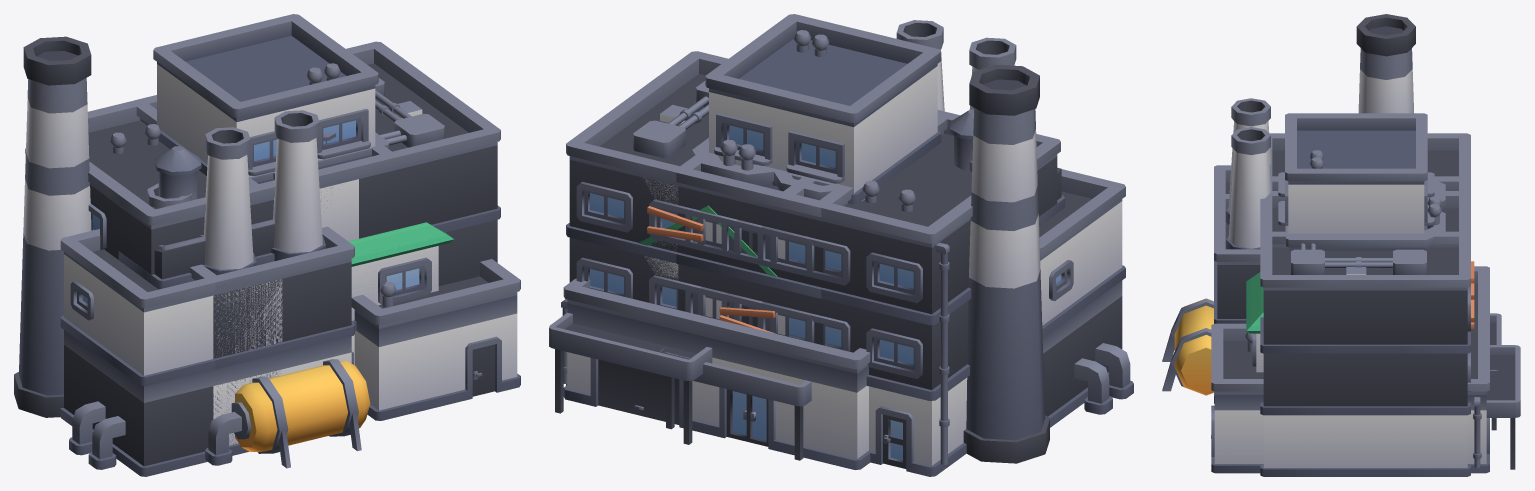
File: citykit.glb
3 views of the same model, side by side, from view 1: azimuth 30°, elevation 25°; view 2: azimuth 150°, elevation 25°; view 3: azimuth 270°, elevation 25° (orthographic). The views are drawn at different scales.
Visible parts, largest first — view 1: ind_f, ind_a, ind_c, ind_e, com_f, sub_f, ind_b, ind_d, com_a; view 2: ind_a, ind_f, ind_c, com_f, ind_d, ind_b, ind_e, com_a, com_b; view 3: ind_a, com_f, ind_c, ind_e, ind_f, com_b, ind_d, sub_f, ind_b, com_a.
Part boxes in pixels (box(x1,y1,x2,y2)): ind_f: box(14, 36, 283, 476); ind_a: box(25, 41, 500, 286); ind_c: box(205, 259, 520, 468); ind_e: box(189, 110, 354, 455); com_f: box(153, 14, 378, 183); sub_f: box(348, 222, 453, 364); ind_b: box(147, 132, 360, 241); ind_d: box(132, 95, 395, 190); com_a: box(156, 119, 381, 182); ind_a: box(566, 51, 1060, 476); ind_f: box(963, 64, 1133, 463); ind_c: box(549, 278, 872, 469); com_f: box(705, 14, 941, 204); ind_d: box(660, 110, 951, 460); ind_b: box(640, 161, 972, 335); ind_e: box(896, 20, 1016, 111); com_a: box(700, 145, 864, 201); com_b: box(692, 138, 842, 186); ind_a: box(1260, 133, 1470, 476); com_f: box(1278, 113, 1434, 233); ind_c: box(1162, 266, 1520, 473); ind_e: box(1214, 98, 1270, 403); ind_f: box(1214, 14, 1415, 290); com_b: box(1286, 197, 1445, 250); ind_d: box(1268, 176, 1501, 430); sub_f: box(1246, 272, 1263, 372); ind_b: box(1260, 191, 1474, 328); com_a: box(1286, 180, 1445, 236).
Bounding box in the file's own units: 2.39 × 1.92 × 2.11.
4 materials, 4 textured.
